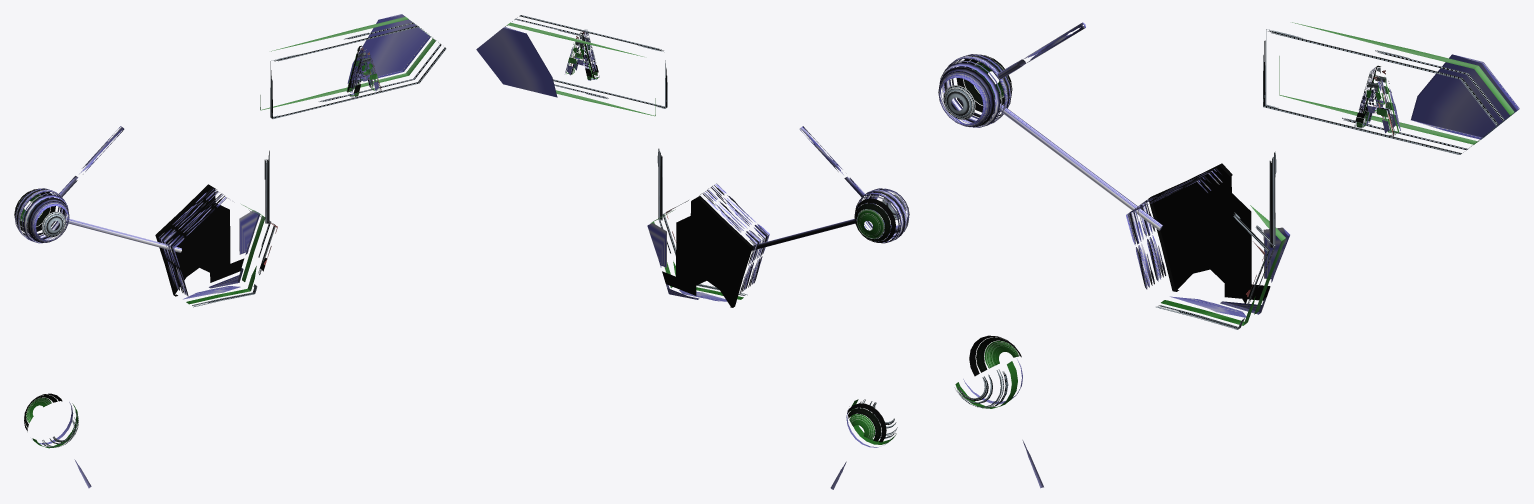
Rendered from a3dnax2.DAE.
3 views of the same model, side by side, from view 1: azimuth 30°, elevation 25°; view 2: azimuth 150°, elevation 25°; view 3: azimuth 330°, elevation 25° (orthographic). The views are drawn at different scales.
Parts seen in each view (by area): view 1: Rectangle02; view 2: Rectangle02; view 3: Rectangle02.
Boxes of the visible parts, x1,y1,x2,y2 form: Rectangle02: (14, 14, 446, 488); Rectangle02: (476, 15, 909, 489); Rectangle02: (938, 22, 1519, 488).
Size of the model in its own units: 192 by 22.29 by 171.
Materials: 1 (1 with a texture image).
